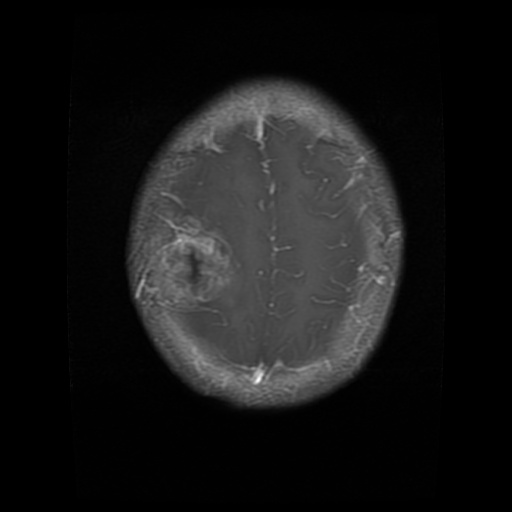glioma: (161, 229, 235, 302)
